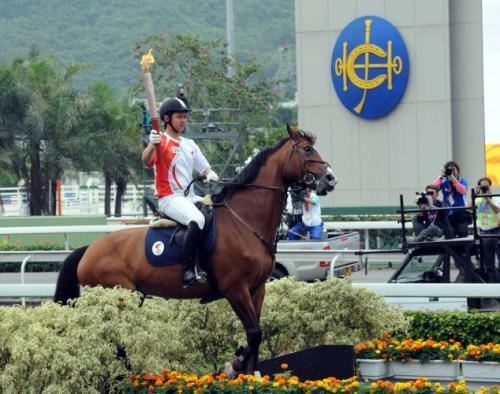fire: (139, 46, 156, 70)
